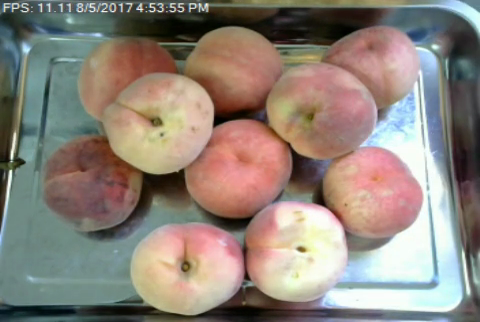Peach: (102, 74, 217, 175), (263, 62, 380, 161), (242, 199, 350, 303), (182, 119, 294, 218), (128, 224, 245, 315), (39, 132, 142, 230), (310, 23, 425, 110), (320, 146, 425, 238), (182, 26, 285, 113), (82, 36, 173, 122)
